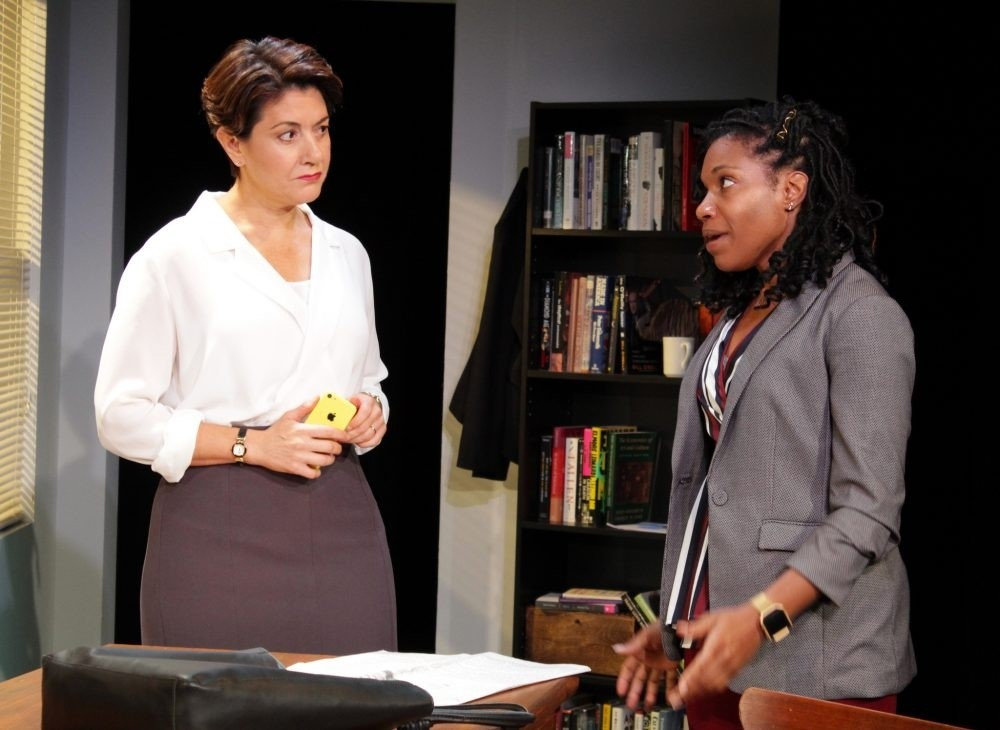face_no_mask: (697, 106, 841, 270), (201, 38, 330, 204)
